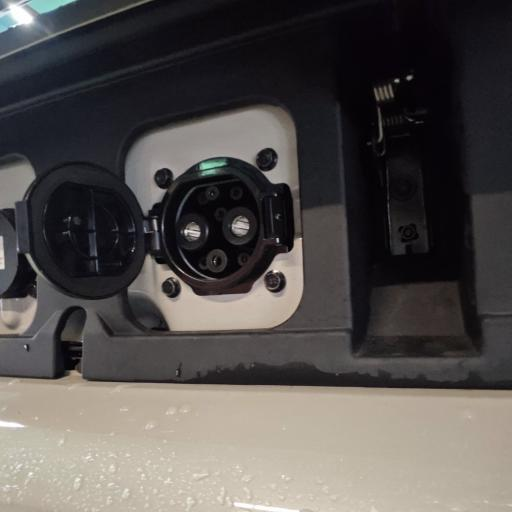DC_charging_port: (157, 165, 266, 287)
DC_hole: (222, 204, 258, 246), (174, 213, 209, 249)
PE: (205, 248, 230, 274)
